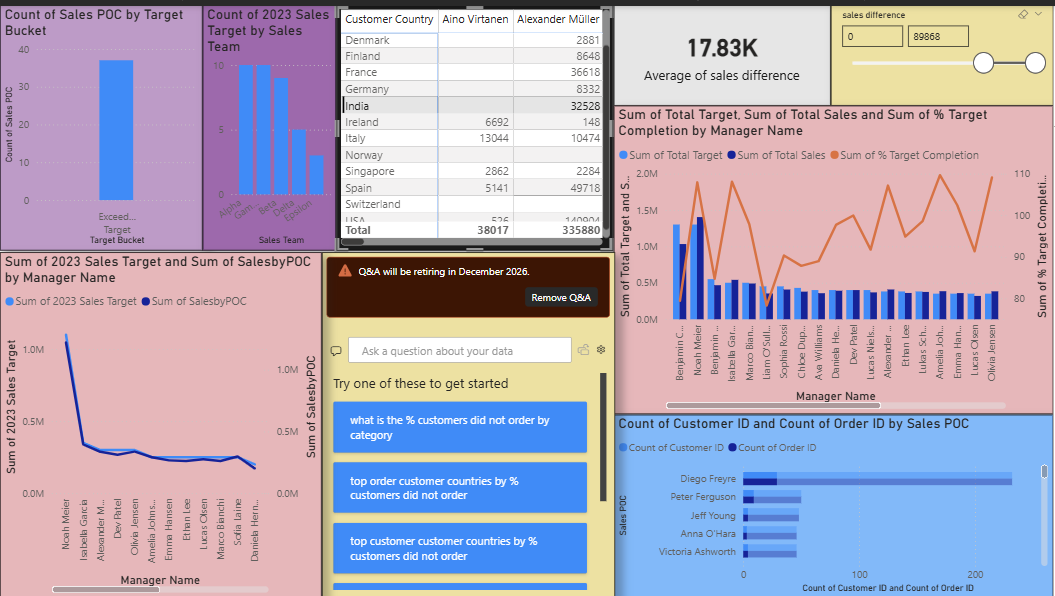

Layout of this report page (visuals, bound fields, positions):
{"tool":"powerbi","page":{"name":"Final Sales Analysis","canvas":[1280,720],"ordinal":0},"visuals":[{"type":"columnChart","fields":{"Category":["Sales Targets.Target Bucket"],"Y":["CountNonNull(Sales Targets.Sales POC)"]},"box":[0,0,246,298.4],"z":0},{"type":"columnChart","fields":{"Category":["Sales Targets.Sales Team"],"Y":["CountNonNull(Sales Targets.2023 Sales Target)"]},"box":[246,0,162.3,298.4],"z":1000},{"type":"pivotTable","fields":{"Rows":["Customers.Customer Country"],"Columns":["Sales Targets.Manager Name"],"Values":["Sum(Orders.Order Value)"]},"box":[408.3,0,338.5,298.4],"z":1002},{"type":"card","fields":{"Values":["Avg(Sales Targets.sales difference)"]},"box":[746.8,0,263.5,122.1],"z":1003},{"type":"slicer","fields":{"Values":["Sales Targets.sales difference"]},"box":[1010.3,0,270.5,122.1],"z":1004},{"type":"lineClusteredColumnComboChart","fields":{"Category":["Sales Manager Target Completion.Manager Name"],"Y":["Sum(Sales Manager Target Completion.Total Target)","Sum(Sales Manager Target Completion.Total Sales)"],"Y2":["Sum(Sales Manager Target Completion.% Target Completion)"]},"box":[746.8,122.1,533.9,375.2],"z":1005},{"type":"clusteredBarChart","fields":{"Y":["CountNonNull(Orders.Customer ID)","Count(Orders.Order ID)"],"Category":["Orders.Sales POC"]},"box":[746.8,497.3,533.9,223.3],"z":1006},{"type":"qnaVisual","box":[390.9,300.1,356,420.5],"z":1007},{"type":"lineChart","fields":{"Y2":["Sum(Sales Targets.SalesbyPOC)"],"Category":["Sales Targets.Manager Name"],"Y":["Sum(Sales Targets.2023 Sales Target)"]},"box":[0,300.1,390.9,420.5],"z":1008}]}

Visuals, with their boxes in screenshot pixels (x1, y1, x2, y2), scaled from the page's 1280x720 canvas onto the 1055x596 screenshot:
columnChart - Sales Targets.Target Bucket x CountNonNull(Sales Targets.Sales POC): l=0, t=0, r=203, b=247
columnChart - Sales Targets.Sales Team x CountNonNull(Sales Targets.2023 Sales Target): l=203, t=0, r=337, b=247
pivotTable - Customers.Customer Country x Sales Targets.Manager Name: l=337, t=0, r=616, b=247
card - Avg(Sales Targets.sales difference): l=616, t=0, r=833, b=101
slicer - Sales Targets.sales difference: l=833, t=0, r=1054, b=101
lineClusteredColumnComboChart - Sales Manager Target Completion.Manager Name x Sum(Sales Manager Target Completion.Total Target): l=616, t=101, r=1054, b=412
clusteredBarChart - CountNonNull(Orders.Customer ID) x Count(Orders.Order ID): l=616, t=412, r=1054, b=595
qnaVisual: l=322, t=248, r=616, b=595
lineChart - Sum(Sales Targets.SalesbyPOC) x Sales Targets.Manager Name: l=0, t=248, r=322, b=595
